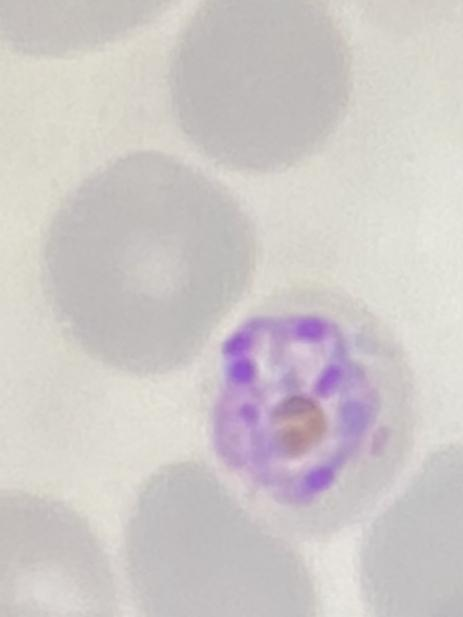Infected: (212, 285, 416, 528)
Uninfected: (43, 154, 260, 377), (169, 0, 350, 175), (124, 460, 313, 617)
